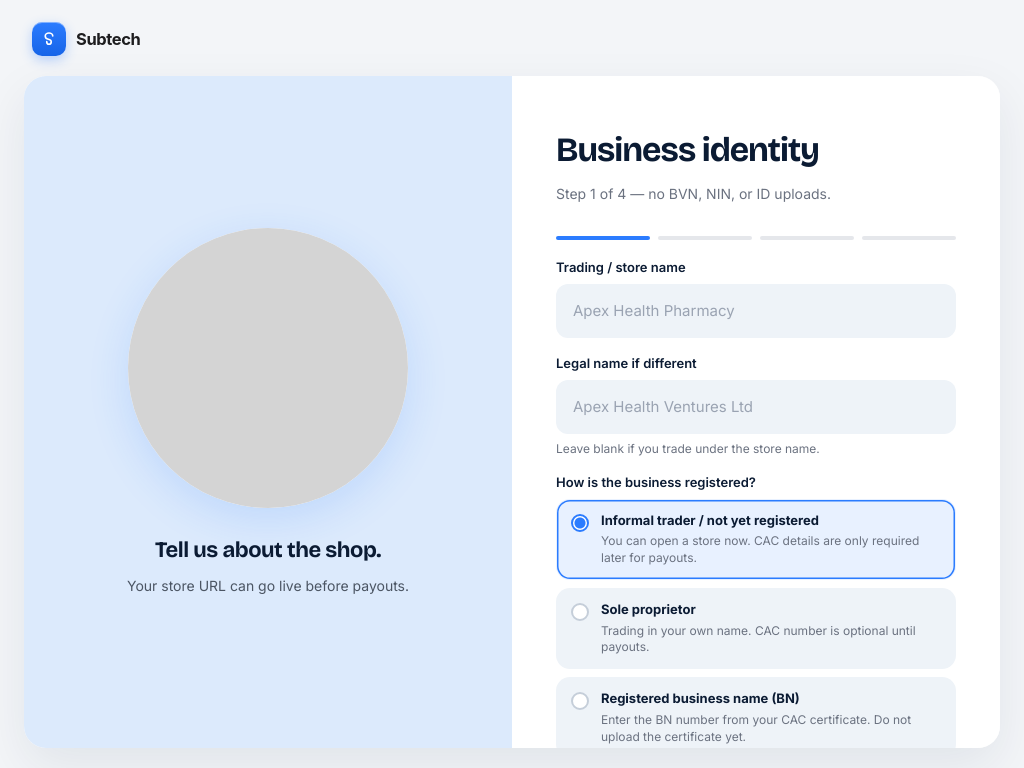
Test case: Merchant auth pages › loads cities for the selected state
The width and height of the screenshot is (1024, 768).
Type "Apex Pharmacy" into the field labelled "Trading / store name" at (756, 311), box [556,284,956,338]
(page scrolled)
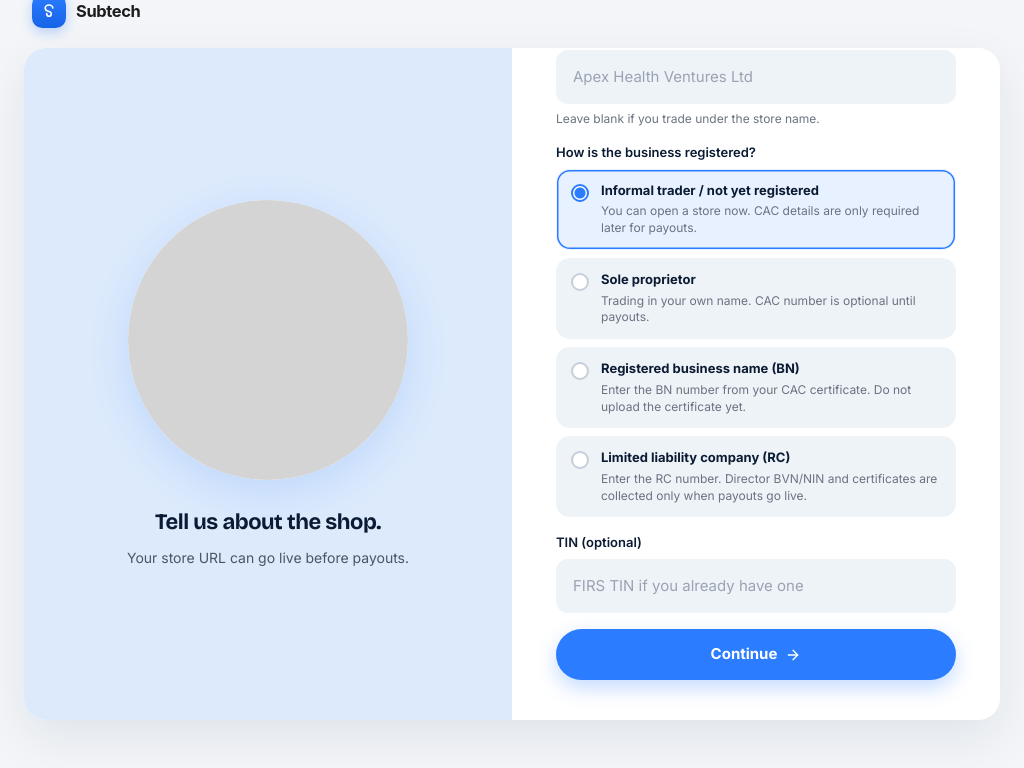
Click the button "Continue" at (756, 655), box [556,630,956,680]
(page scrolled)
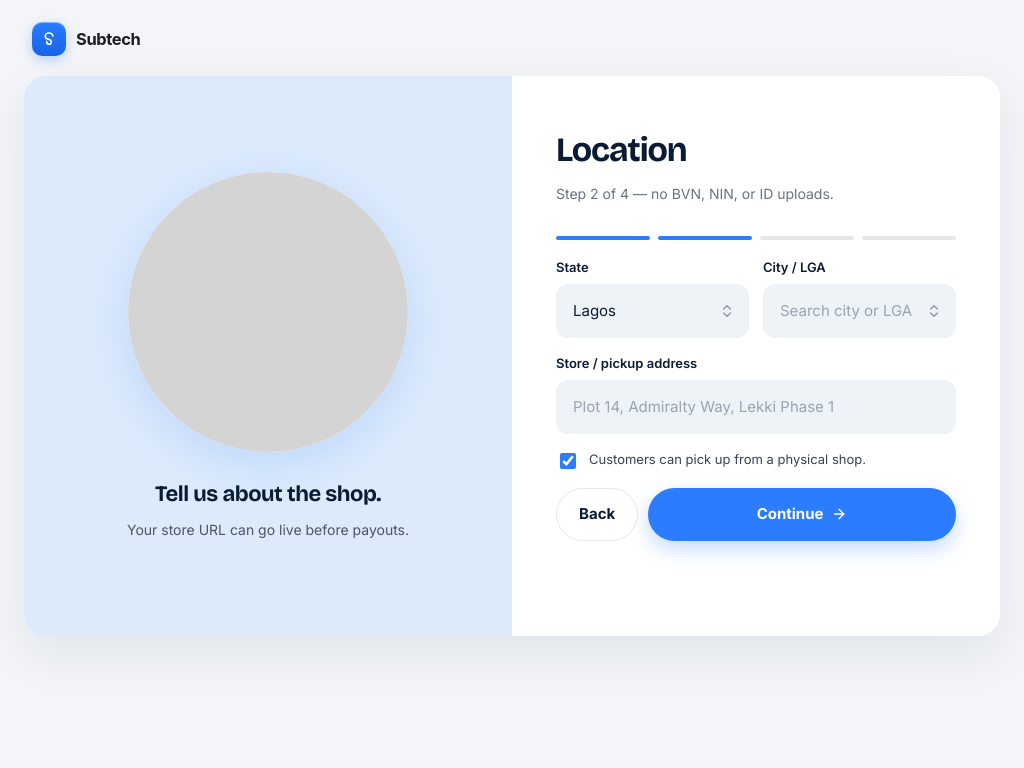
expect the dropdown labelled "City / LGA" is enabled: met
Focus the dropdown labelled "City / LGA" at (860, 311), box [763,284,956,338]
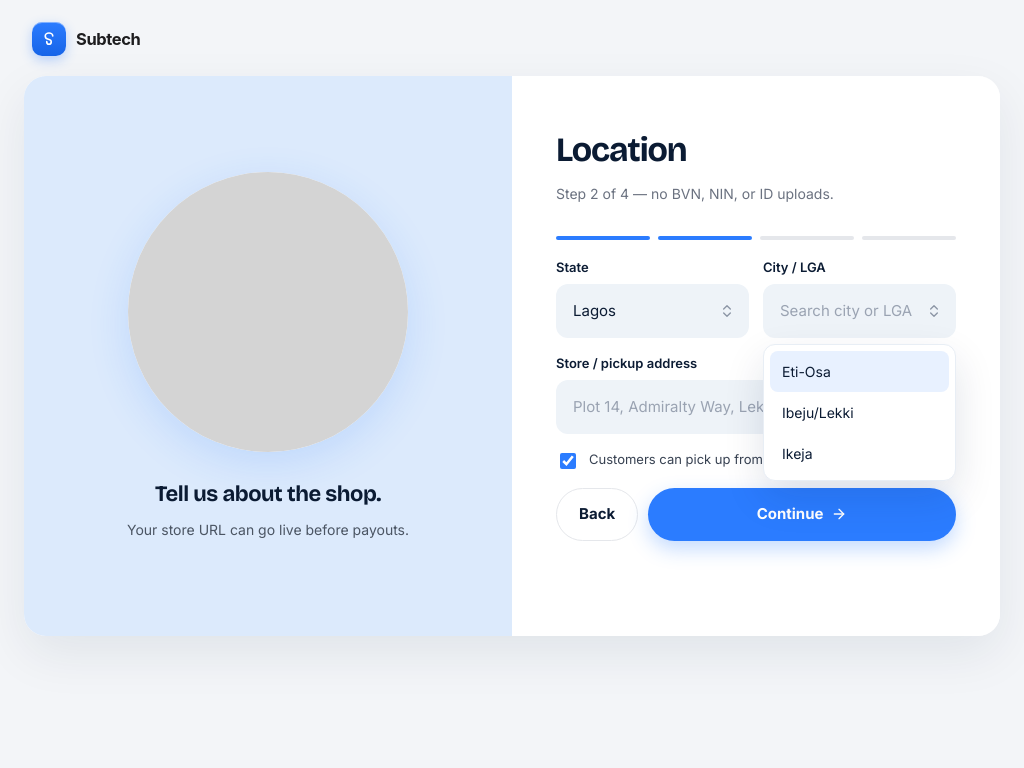
expect the option "Ikeja" is shown: met, box [782,445,812,462]
expect the option "Ibeju/Lekki" is shown: met, box [782,404,854,421]
